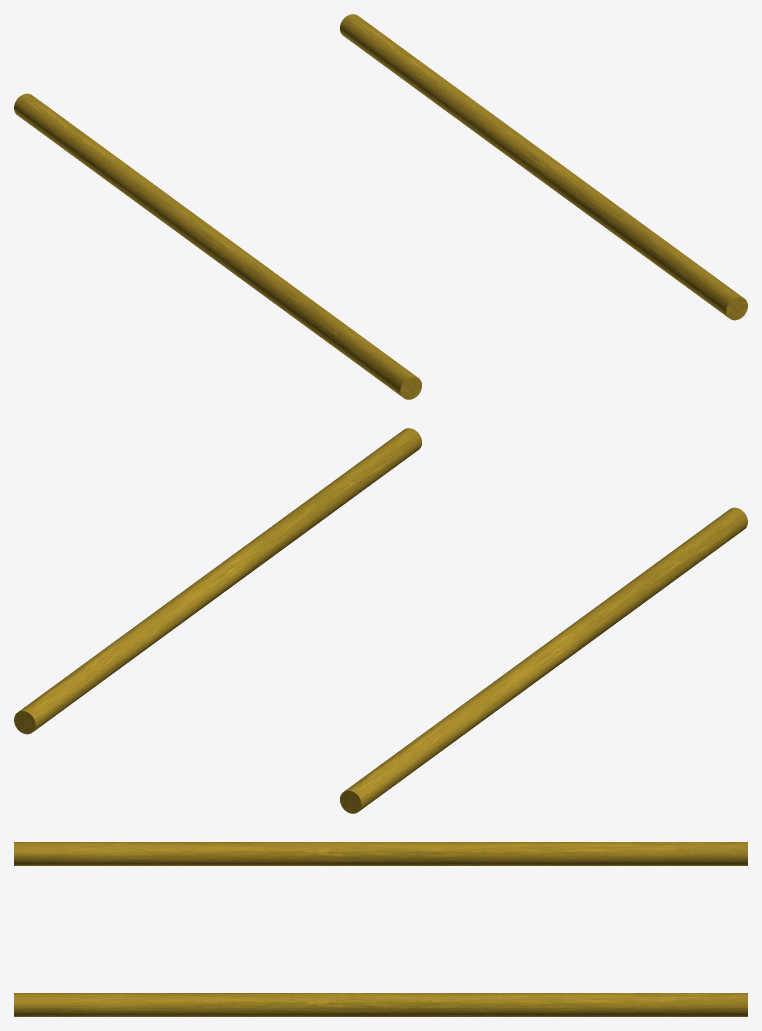
File: large path new.fbx
3 views of the same model, one above another, from view 1: azimuth 30°, elevation 25°; view 2: azimuth 150°, elevation 25°; view 3: azimuth 270°, elevation 25° (orthographic). The views are drawn at different scales.
Parts seen in each view (by area): view 1: large; view 2: large; view 3: large.
Part boxes in pixels (bbox=[...]): large: bbox=[14, 14, 747, 399]; large: bbox=[14, 428, 747, 813]; large: bbox=[14, 842, 747, 1016].
Bounding box in the file's own units: 456 × 28.53 × 879.
1 material, 1 textured.
